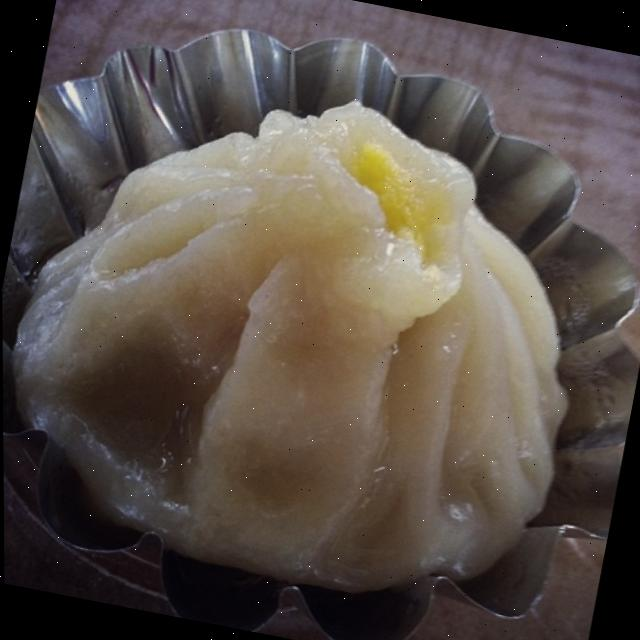带馅早点: (0, 41, 634, 640)
